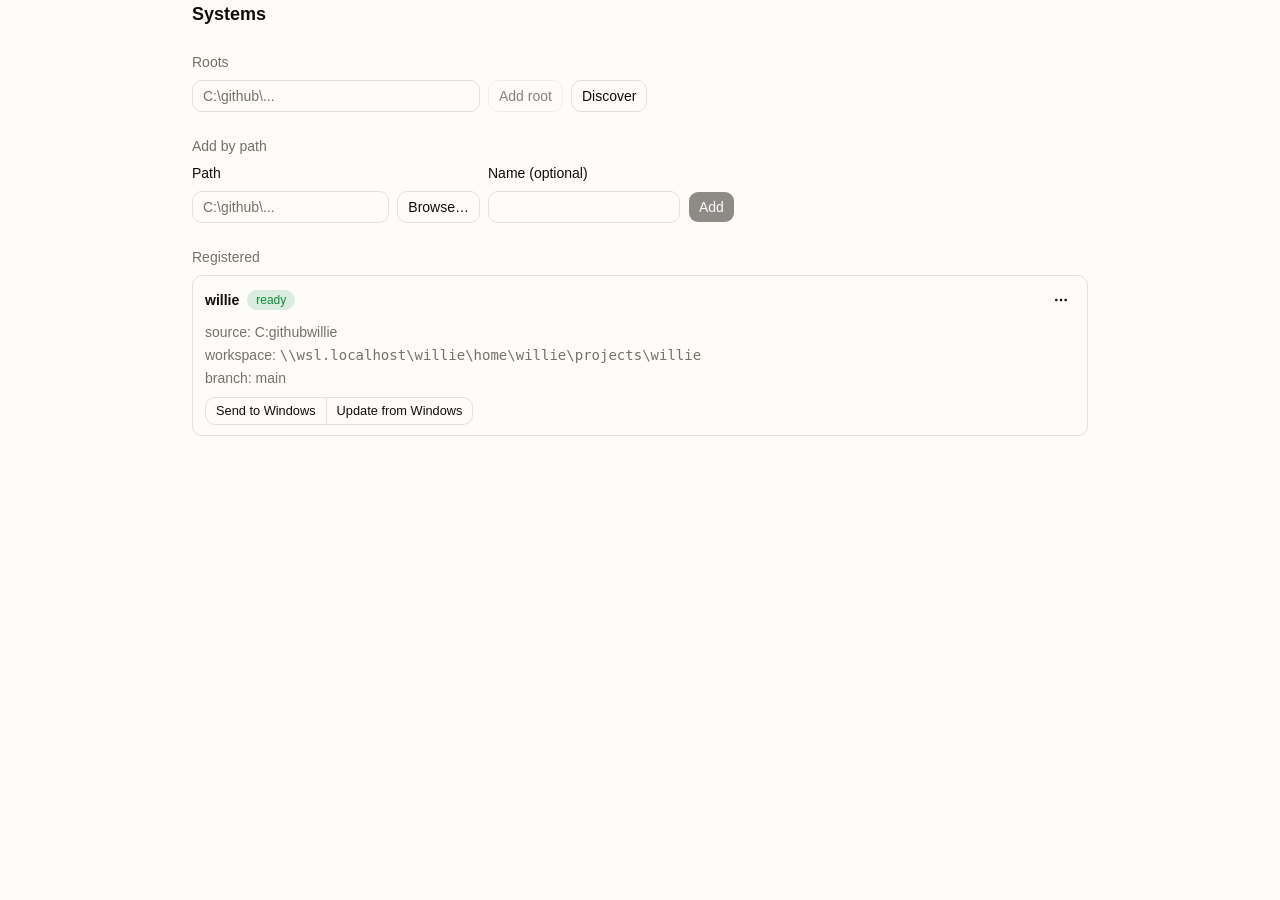
Test: removing a project › keeps the dialog open and shows a synchronous refusal inside it
expect the text "willie" is shown: met, box [205,291,239,310]
Click the button named "More actions" at [1061, 300], box [1047,286,1075,314]
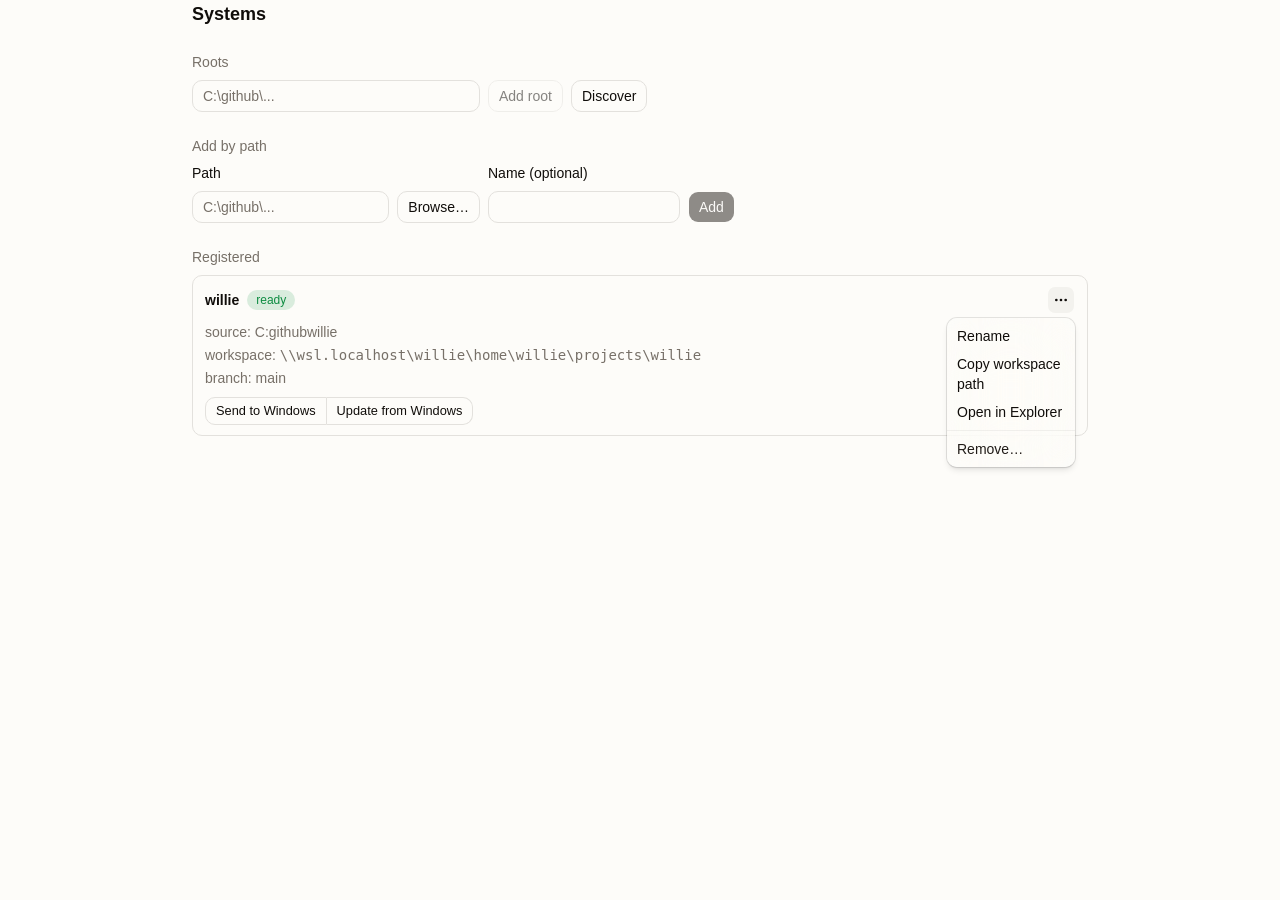
Click the menu item "Remove…" at [990, 449], box [957,441,1023,457]
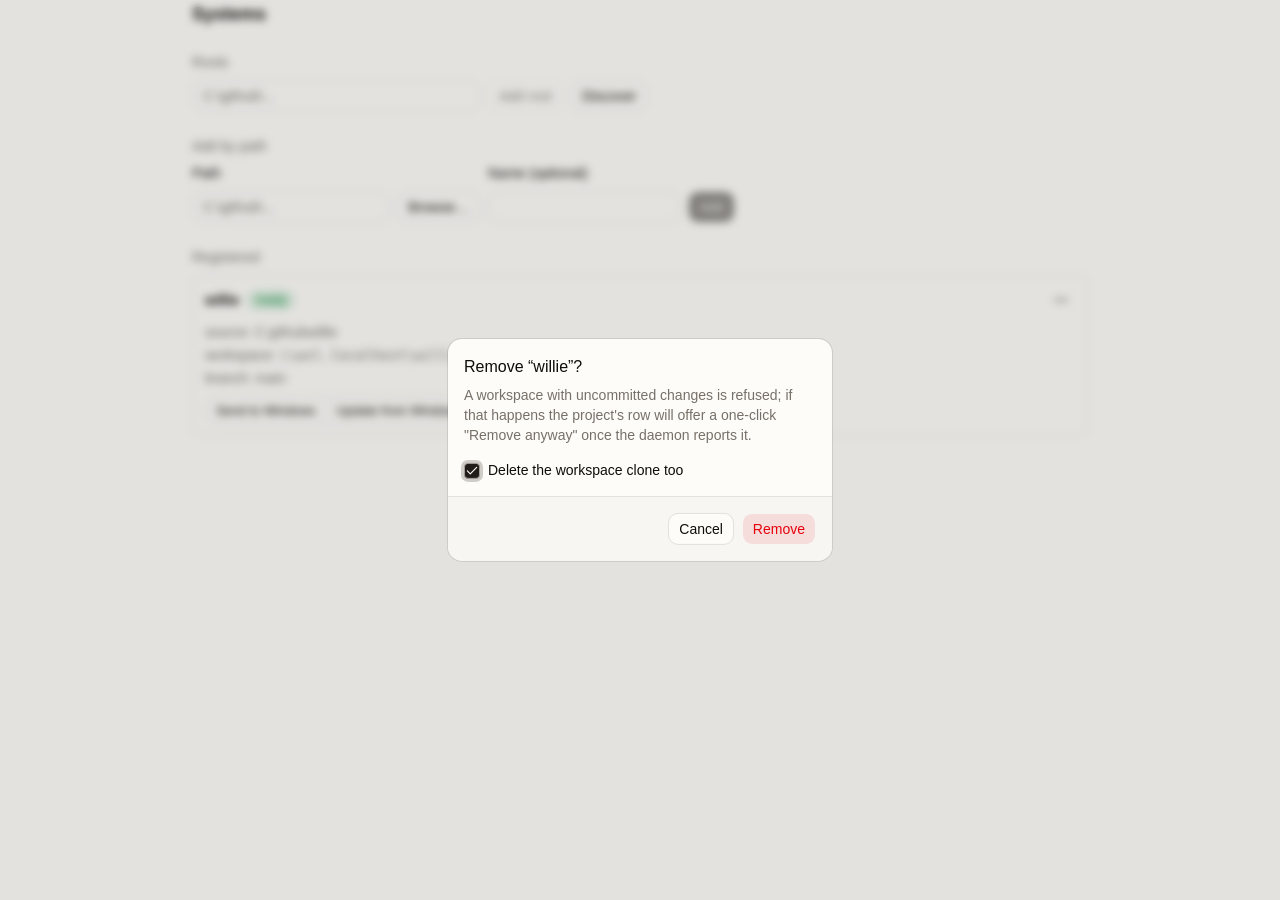
Click the button "Remove" at [779, 529], box [742,513,816,545]
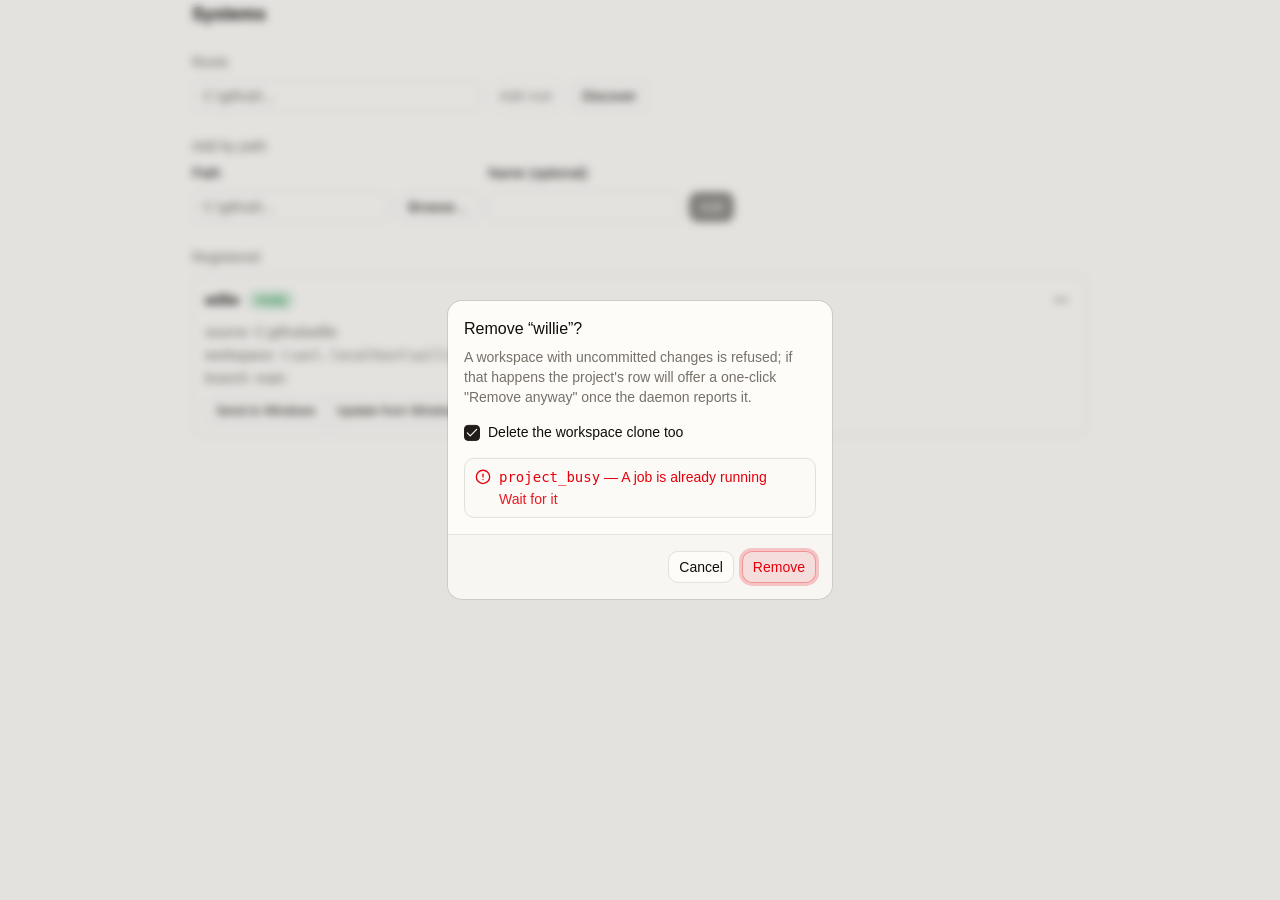
expect the message shows "project_busy": met, box [499,469,600,485]
